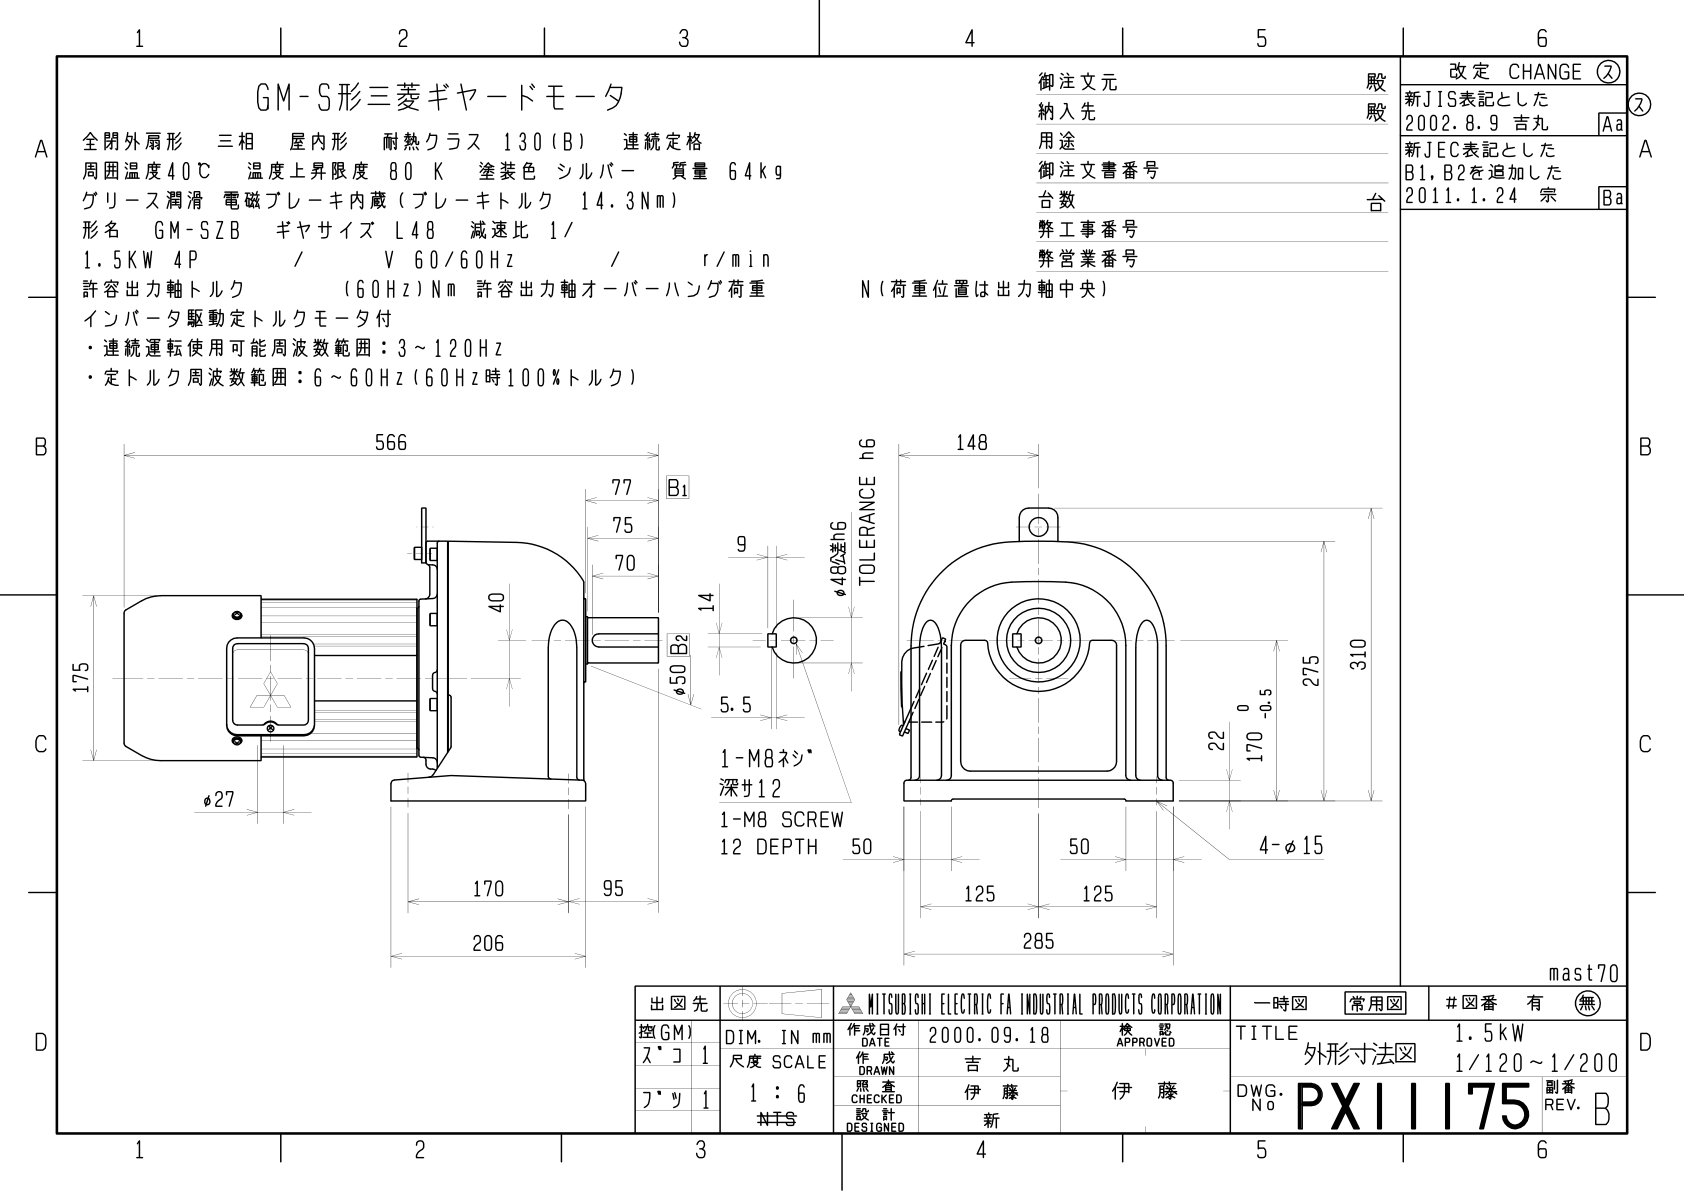GM_S_インバタ屋外＿三相_脚: (70, 406, 1407, 978)
